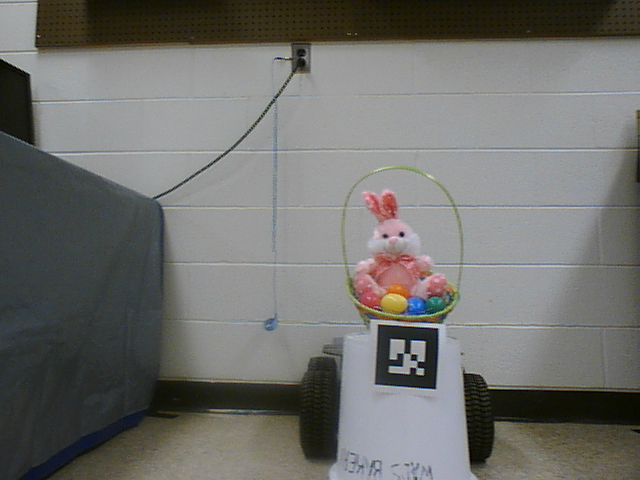bunny: (333, 159, 464, 328)
